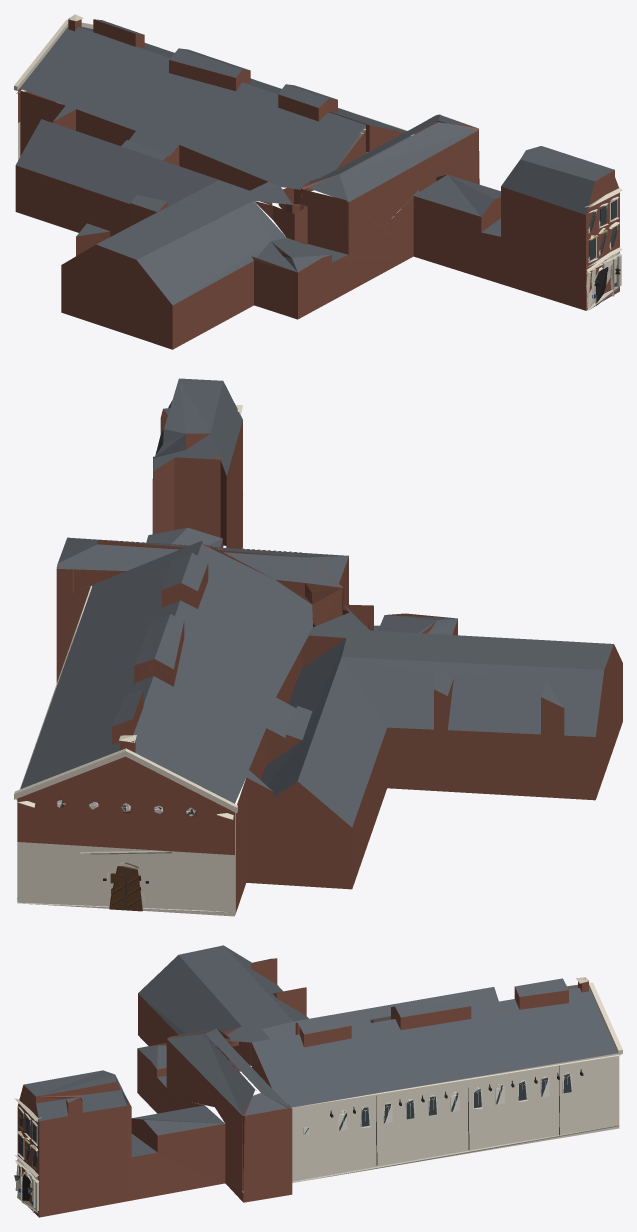
The model's file is hollandsche-manege.lod1.glb.
The picture shows the model from 3 angles, top to bottom: view 1: azimuth 30°, elevation 25°; view 2: azimuth 150°, elevation 25°; view 3: azimuth 270°, elevation 25°; orthographic projection. The views are drawn at different scales.
Visible parts, largest first — view 1: hollandsche-manege; view 2: hollandsche-manege; view 3: hollandsche-manege.
Part boxes in pixels (box(x1,y1,x2,y2)): hollandsche-manege: box(14, 14, 622, 349); hollandsche-manege: box(14, 378, 622, 916); hollandsche-manege: box(14, 945, 622, 1217).
Size of the model in its own units: 59.98 by 16.98 by 75.73.
